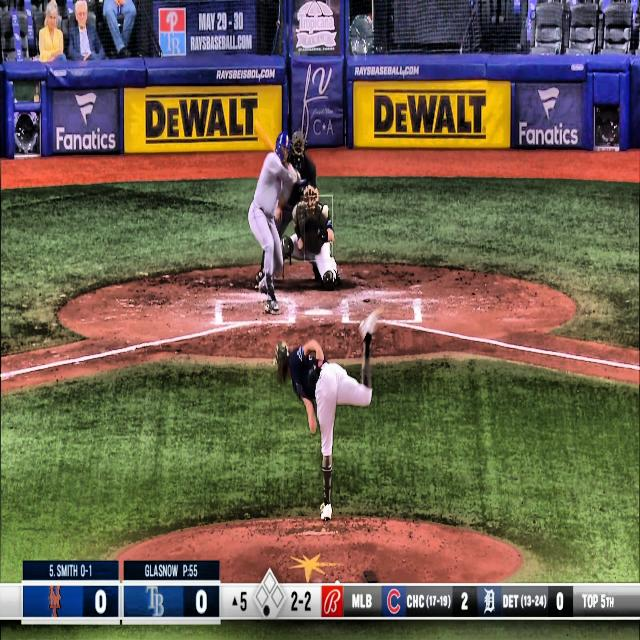baseball: (322, 204, 329, 215)
